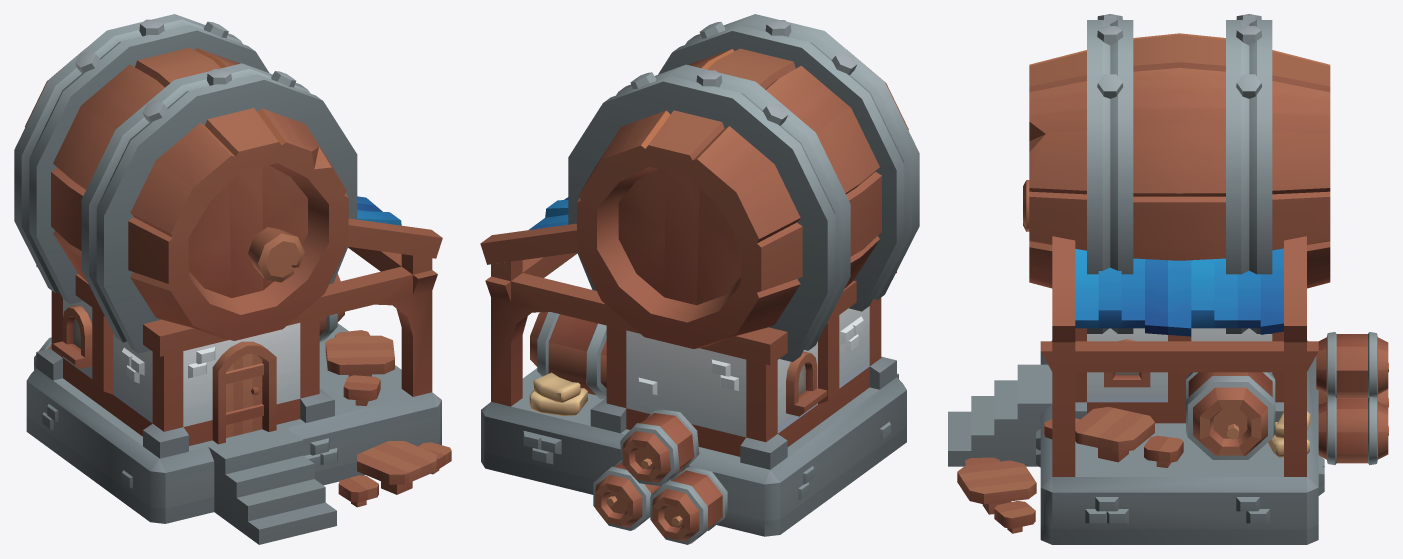
Rendered from tavern_blue.glb.
3 views of the same model, side by side, from view 1: azimuth 30°, elevation 25°; view 2: azimuth 150°, elevation 25°; view 3: azimuth 270°, elevation 25° (orthographic). The views are drawn at different scales.
Visible parts, largest first — view 1: building_tavern_blue; view 2: building_tavern_blue; view 3: building_tavern_blue.
Boxes of the visible parts, x1=… form: building_tavern_blue: x1=14, y1=14, x2=451, y2=544; building_tavern_blue: x1=480, y1=14, x2=919, y2=544; building_tavern_blue: x1=948, y1=14, x2=1388, y2=544.
Size of the model in its own units: 1.17 by 1.4 by 1.33.
Materials: 1 (1 with a texture image).
